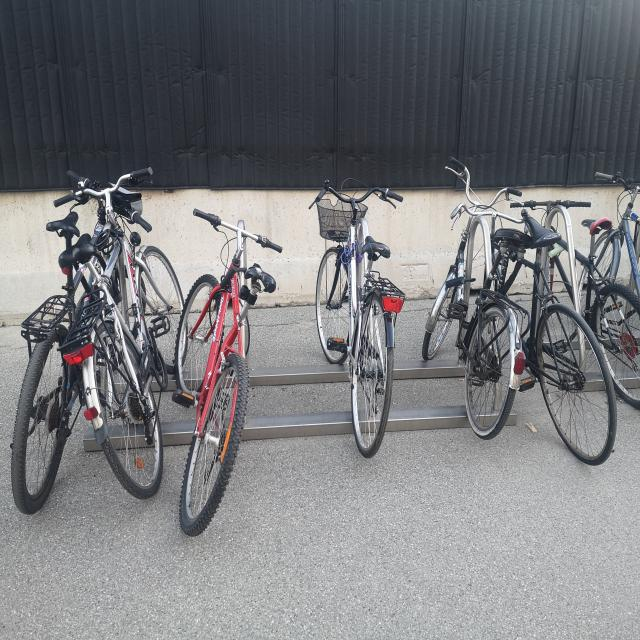Bicycle: (446, 173, 625, 480), (9, 167, 147, 524), (64, 149, 183, 516), (177, 191, 278, 548), (305, 183, 412, 497), (426, 144, 525, 464), (538, 180, 637, 428)
